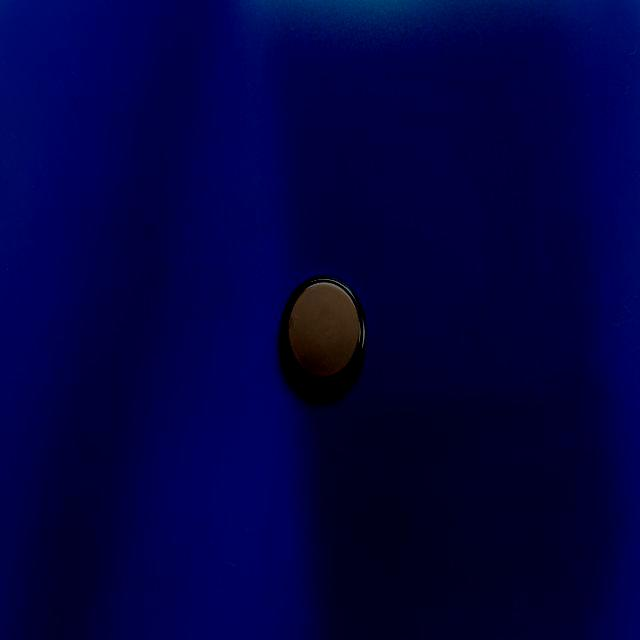COIN: (278, 276, 368, 392)
